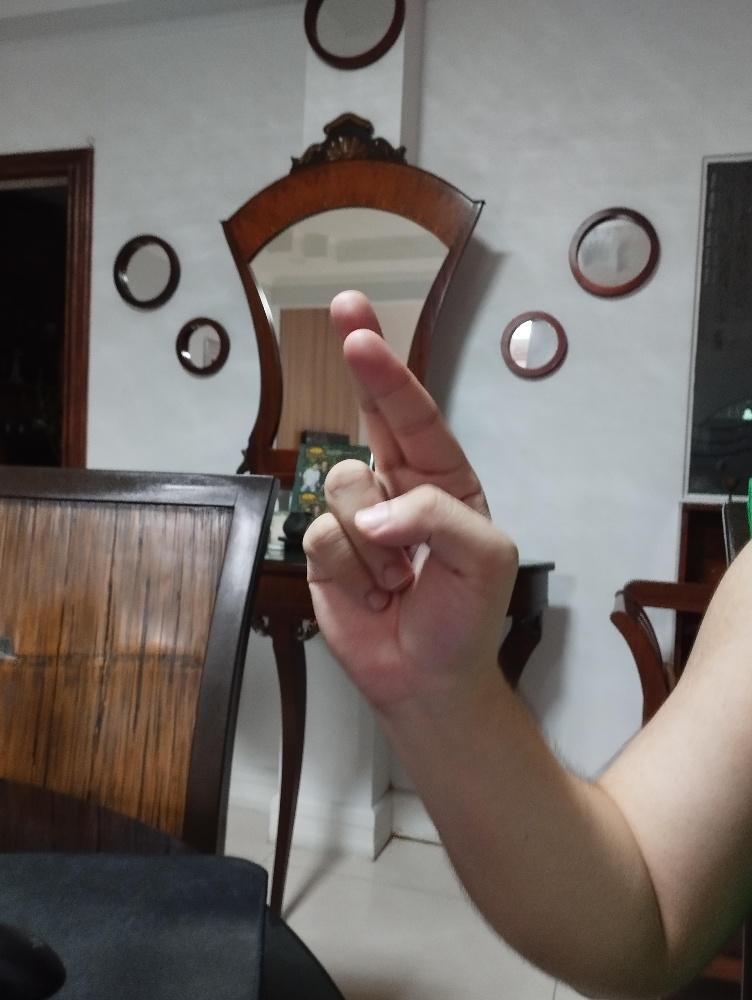r: (299, 287, 522, 705)
